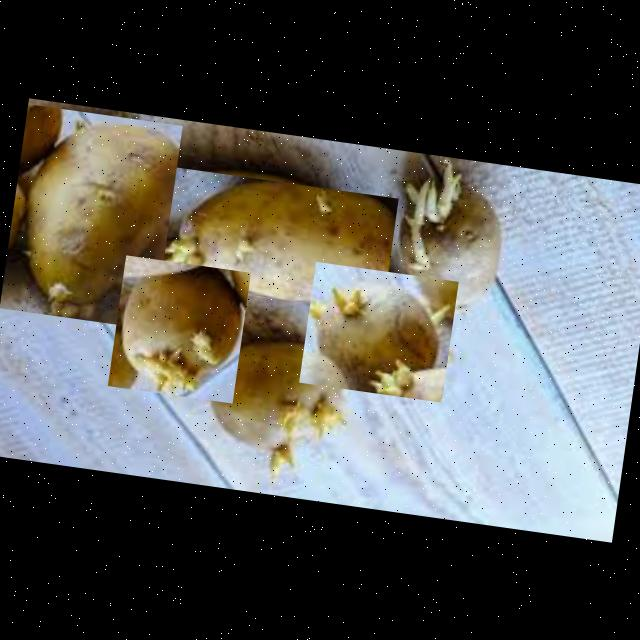Sprouted potato: (0, 102, 181, 329), (158, 166, 398, 312), (188, 332, 350, 494), (298, 260, 458, 402), (393, 155, 518, 327), (107, 255, 250, 402)
